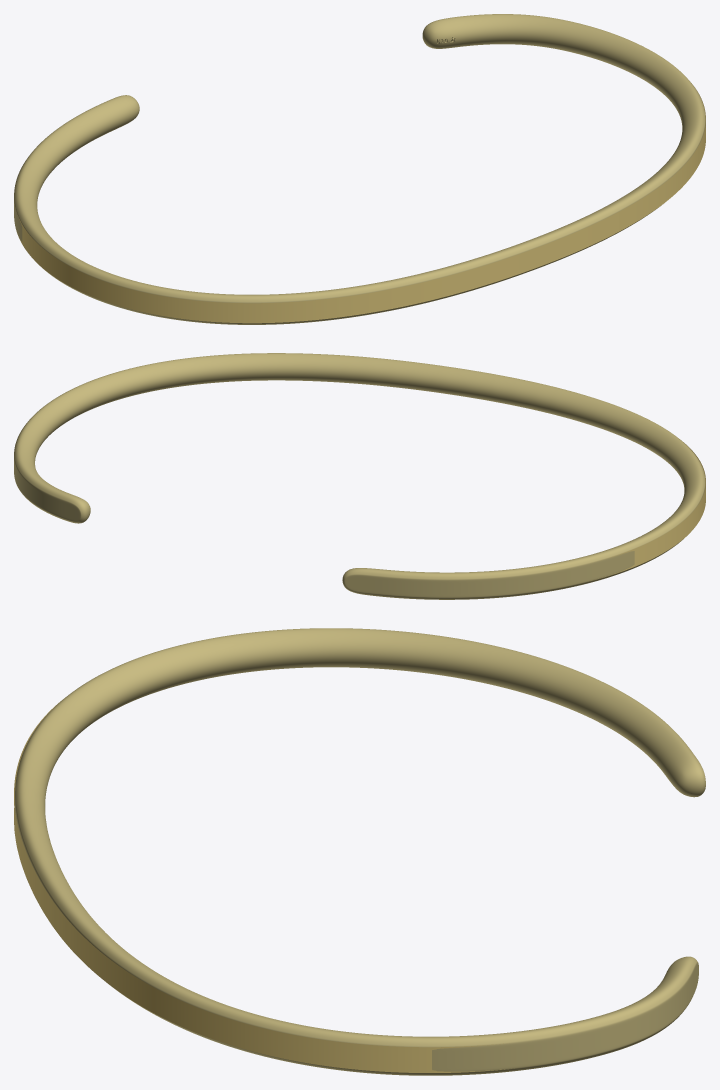
Rendered from bold-gold10.glb.
3 renders of one model, top to bottom at view 1: azimuth 30°, elevation 25°; view 2: azimuth 150°, elevation 25°; view 3: azimuth 270°, elevation 25°, orthographic. The views are drawn at different scales.
Visible parts, largest first — view 1: bold-body.001, bpld-omote.001; view 2: bold-body.001, bpld-omote.001; view 3: bold-body.001, bpld-omote.001.
Boxes of the visible parts, left/top/right/bottom form: bold-body.001: left=14, top=14, right=705, bottom=324; bpld-omote.001: left=15, top=83, right=705, bottom=323; bold-body.001: left=14, top=353, right=705, bottom=599; bpld-omote.001: left=596, top=440, right=705, bottom=579; bold-body.001: left=15, top=628, right=705, bottom=1075; bpld-omote.001: left=14, top=701, right=508, bottom=1072.
Size of the model in its own units: 3.4 by 0.1422 by 2.39.
Materials: 2 (2 with a texture image).
